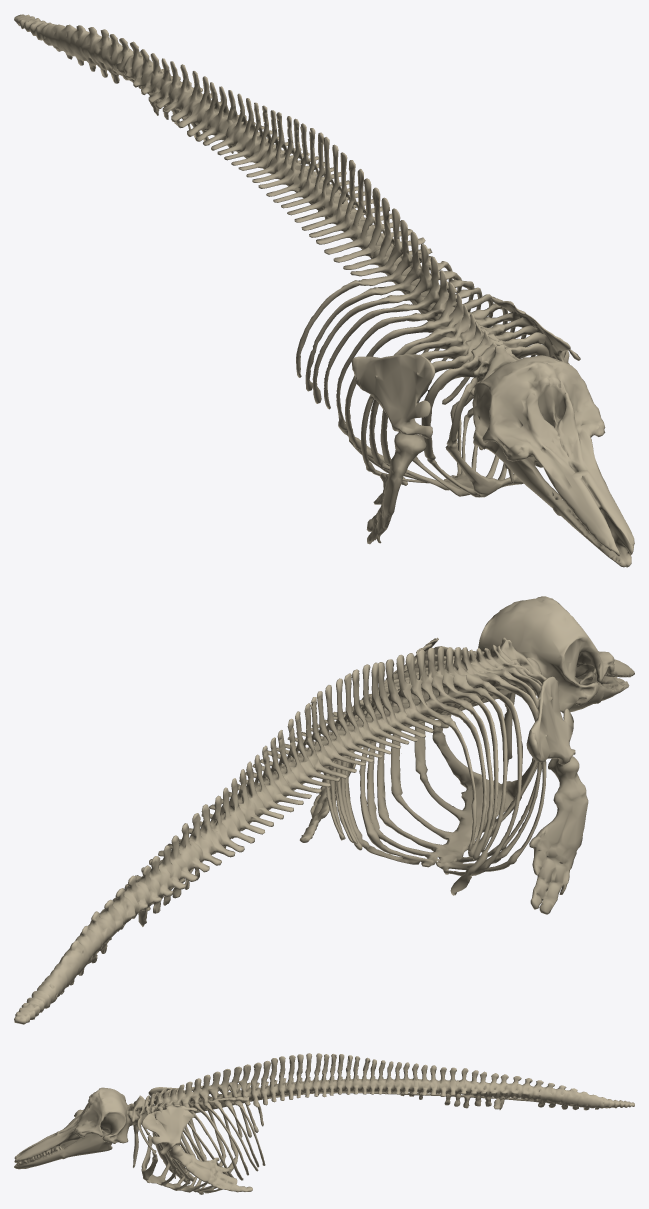
The model's file is dolphin.glb.
The picture shows the model from 3 angles, top to bottom: view 1: azimuth 30°, elevation 25°; view 2: azimuth 150°, elevation 25°; view 3: azimuth 270°, elevation 25°; orthographic projection. The views are drawn at different scales.
Visible parts, largest first — view 1: dolphin; view 2: dolphin; view 3: dolphin.
Boxes of the visible parts, x1,y1,x2,y2 form: dolphin: (14,14,634,567); dolphin: (14,596,634,1024); dolphin: (14,1053,634,1194).
Bounding box in the file's own units: 0.4873 × 0.655 × 2.42.
